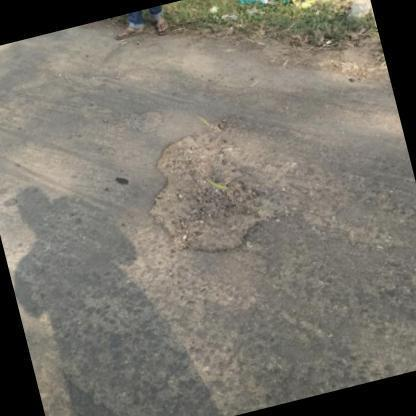pothole: (150, 128, 268, 254)
